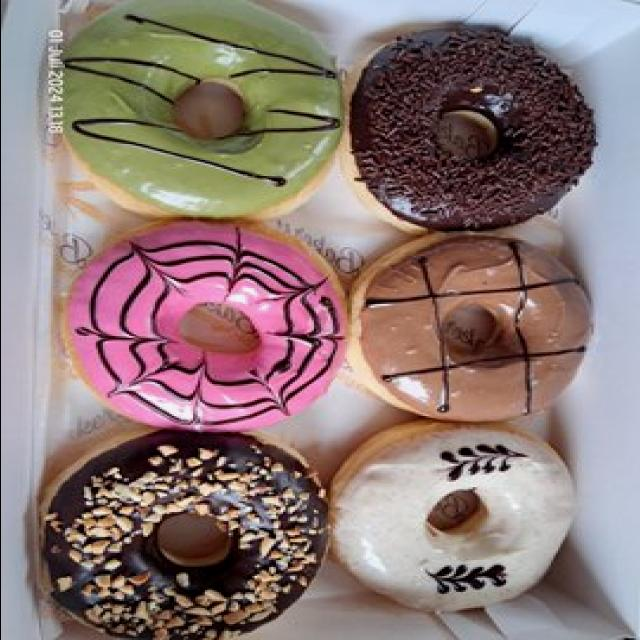donat: (43, 0, 344, 222), (59, 217, 348, 434), (36, 430, 327, 640), (344, 23, 595, 233), (337, 222, 593, 423), (322, 418, 576, 613)
